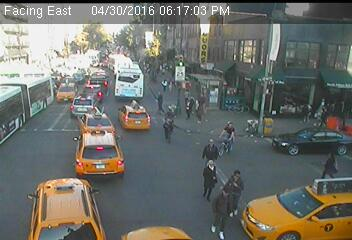neg: (217, 117, 242, 151), (136, 176, 160, 208), (3, 110, 27, 141), (120, 108, 143, 139), (18, 181, 40, 210), (285, 188, 306, 216), (29, 58, 48, 85), (160, 149, 179, 175), (60, 165, 79, 190), (84, 129, 102, 153), (35, 89, 52, 111), (276, 12, 293, 34), (120, 17, 137, 39), (259, 105, 275, 127), (263, 146, 279, 167), (5, 45, 21, 66), (42, 46, 58, 67), (188, 39, 203, 60), (61, 12, 76, 33), (46, 120, 60, 139), (80, 93, 94, 112), (208, 15, 222, 34), (289, 53, 302, 71), (238, 47, 251, 64), (89, 32, 102, 49), (154, 45, 166, 62), (90, 63, 102, 79), (127, 63, 137, 76)
pos: (199, 186, 238, 238), (216, 167, 254, 218), (193, 159, 223, 199), (195, 136, 225, 176), (312, 144, 340, 181), (179, 90, 203, 122), (155, 114, 176, 141), (191, 91, 211, 119), (313, 102, 333, 129), (334, 95, 351, 122), (150, 88, 166, 110), (158, 74, 173, 95), (300, 102, 315, 123), (182, 75, 192, 88)
